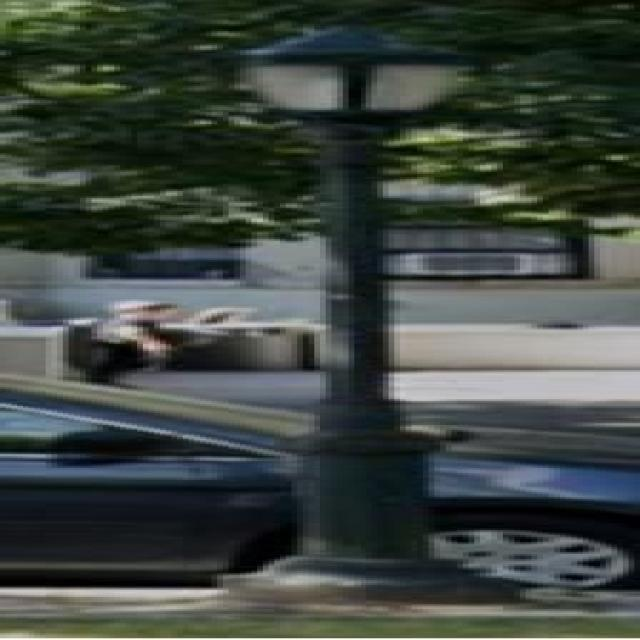off: (210, 0, 526, 174)
